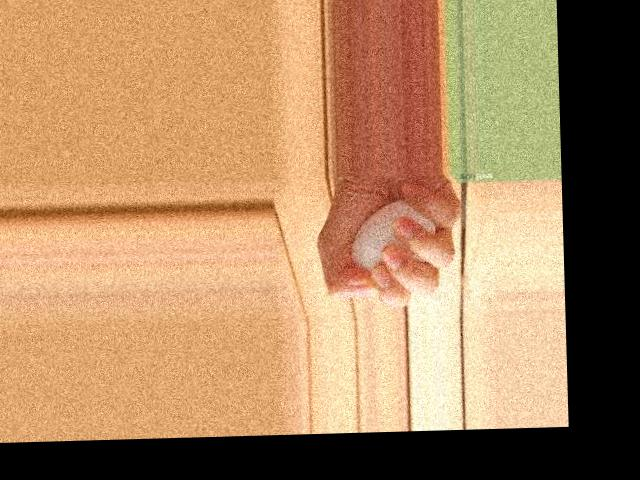egg: (350, 199, 437, 279)
